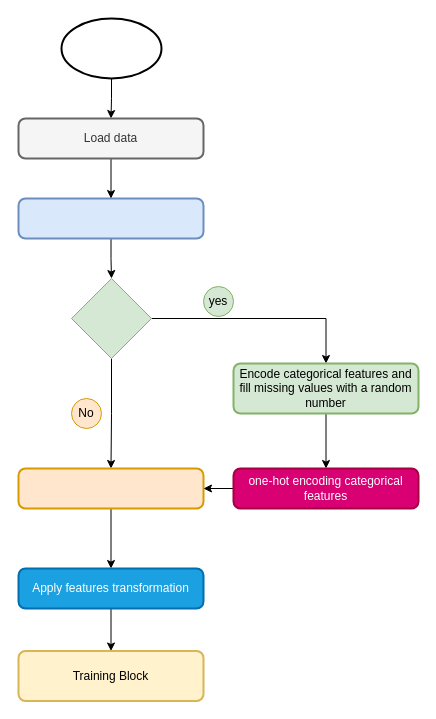
Image size: 436x719. Some labels were removed from this diagram. Each missing label, with the centre of its shape:
"is there categorical features" goes at (111,318).
"Normalize numerical features and fill missing values with x" goes at (110,488).
"Split data to numerical and categorical features" goes at (110,218).
"Start" goes at (111,48).
